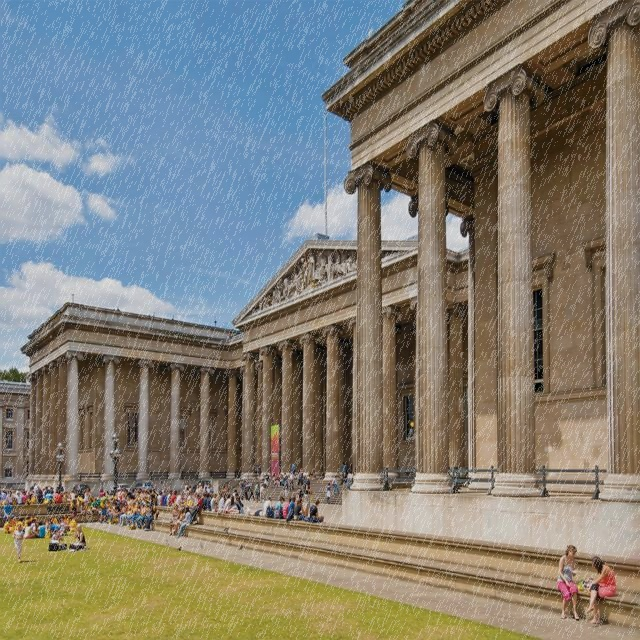pessoa: (253, 246, 388, 317), (108, 482, 161, 533), (160, 480, 203, 540), (584, 554, 618, 626), (556, 544, 582, 622), (0, 480, 68, 506), (254, 461, 306, 492), (202, 480, 245, 515), (67, 484, 98, 514), (301, 469, 313, 522), (12, 520, 26, 564), (68, 524, 87, 554), (245, 504, 275, 518), (309, 497, 325, 522), (51, 528, 68, 550), (2, 498, 16, 524), (293, 497, 306, 521), (262, 496, 276, 518), (282, 495, 294, 520), (33, 520, 47, 541), (22, 519, 36, 539), (100, 491, 108, 525), (330, 472, 340, 498), (338, 460, 348, 486), (275, 494, 285, 518), (28, 518, 40, 538), (70, 497, 78, 524), (247, 481, 257, 502), (252, 481, 262, 502), (58, 516, 68, 536), (3, 516, 14, 534), (66, 516, 78, 532), (48, 520, 61, 534), (48, 513, 60, 528), (324, 482, 332, 504), (259, 482, 267, 504), (346, 468, 353, 492), (240, 480, 248, 500), (288, 496, 296, 514), (63, 512, 70, 531), (294, 490, 304, 503), (18, 518, 26, 534), (238, 471, 244, 492), (350, 458, 357, 474), (105, 498, 109, 524), (246, 480, 253, 492), (256, 482, 260, 502), (98, 488, 104, 500), (48, 516, 55, 525), (46, 520, 51, 532), (98, 501, 102, 514)
